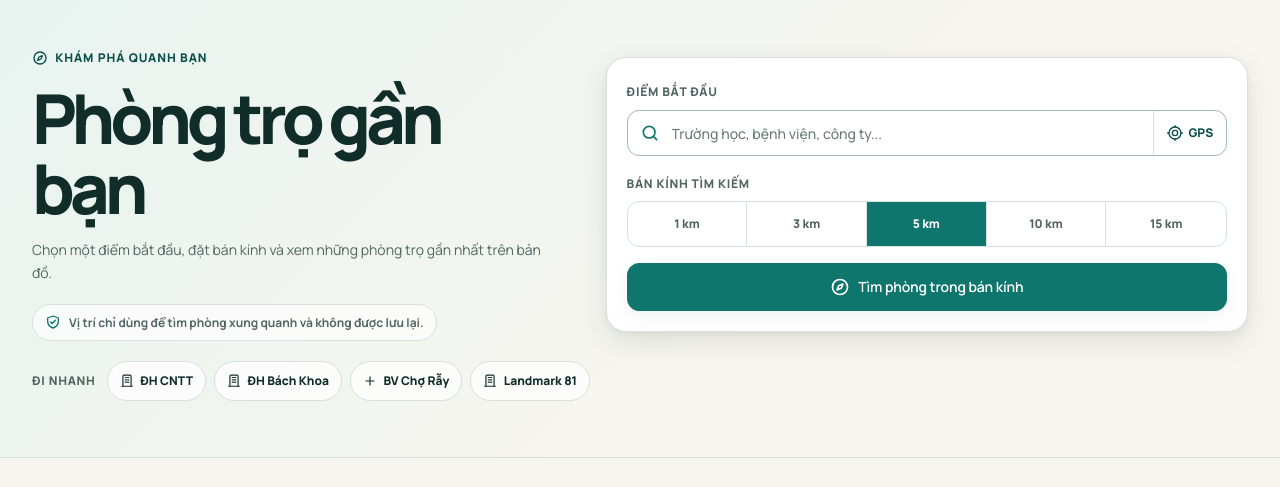
Test case: NearMePage › explains a denied GPS permission without issuing a search request
Click the button with aria-label "Dùng vị trí hiện tại".
click(1190, 133)  # box 1153,111 -> 1226,155
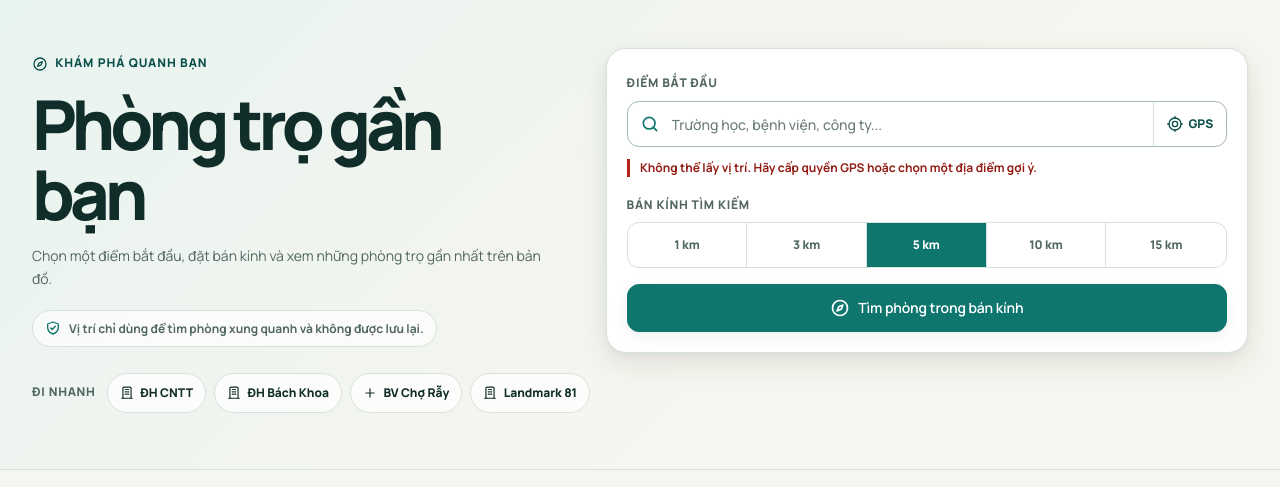
Expected: the message shows "Không thể lấy vị trí", 640,159 -> 1037,176
